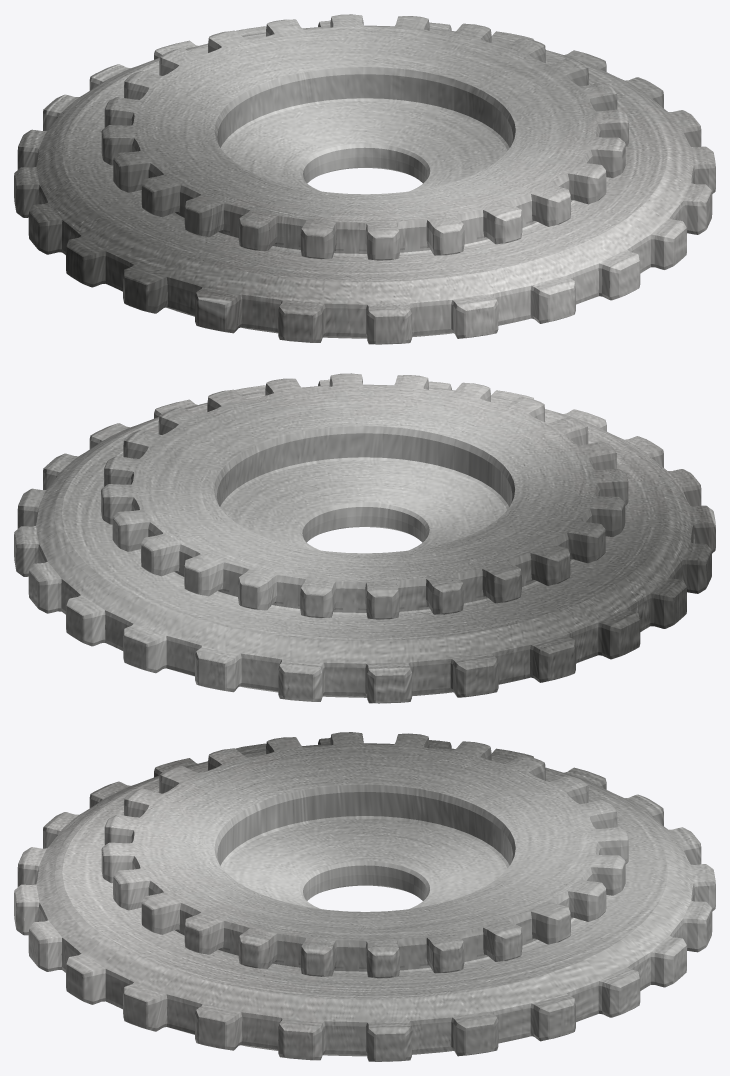
The model's file is gear_base.fbx.
The picture shows the model from 3 angles, top to bottom: view 1: azimuth 30°, elevation 25°; view 2: azimuth 150°, elevation 25°; view 3: azimuth 270°, elevation 25°; orthographic projection.
Visible parts, largest first — view 1: Torus; view 2: Torus; view 3: Torus.
Part boxes in pixels (x1,y1,x2,y2): Torus: (14,14,715,344); Torus: (14,373,715,703); Torus: (14,732,715,1061).
Size of the model in its own units: 259 by 35.58 by 259.
